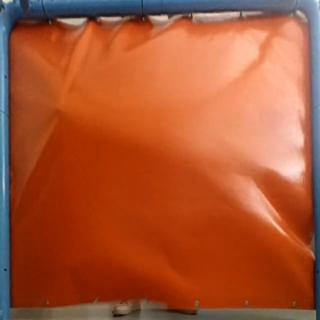Hit-hRxx: (50, 100, 68, 118)
